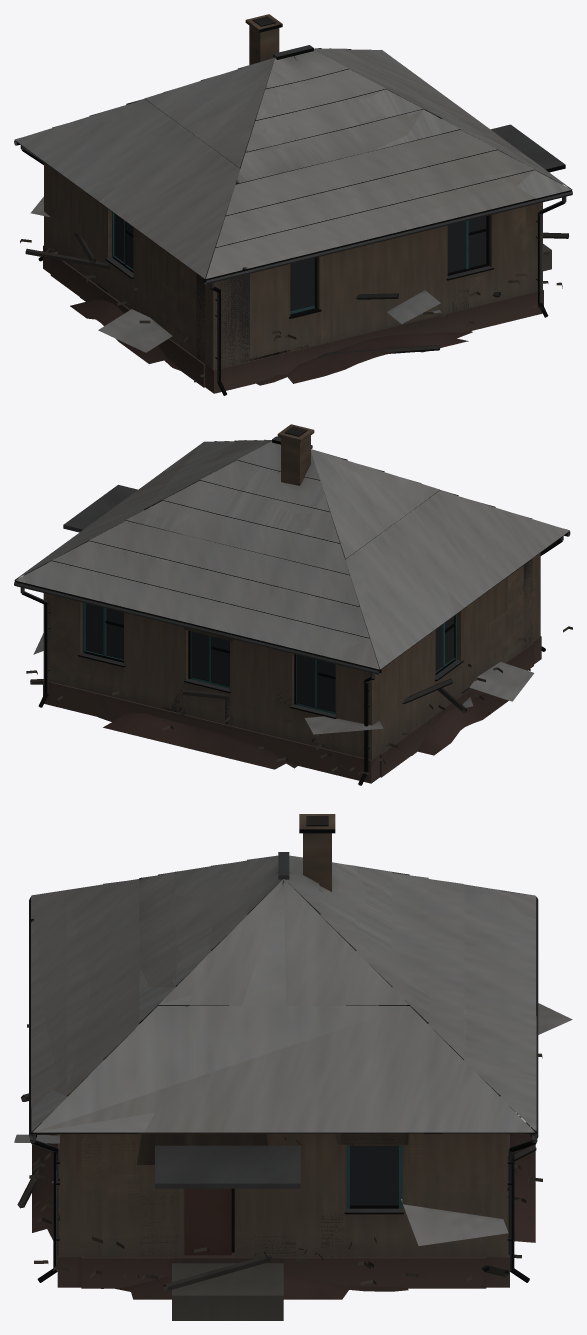
File: ph_brick.glb
The picture shows the model from 3 angles, top to bottom: view 1: azimuth 30°, elevation 25°; view 2: azimuth 150°, elevation 25°; view 3: azimuth 270°, elevation 25°; orthographic projection. The views are drawn at different scales.
Visible parts, largest first — view 1: brick_s0, brick_sruin, brick_s1f, brick_s1g, brick_s2; view 2: brick_s0, brick_sruin, brick_s1f, brick_s1g, brick_s2; view 3: brick_s0, brick_s1g, brick_sruin, brick_s2, brick_s1f.
Boxes of the visible parts, x1,y1,x2,y2 form: brick_s0: [14, 14, 572, 395]; brick_sruin: [20, 188, 568, 385]; brick_s1f: [24, 48, 564, 334]; brick_s1g: [17, 48, 571, 278]; brick_s2: [15, 49, 570, 277]; brick_s0: [14, 424, 570, 785]; brick_sruin: [26, 559, 572, 775]; brick_s1f: [15, 440, 569, 706]; brick_s1g: [55, 440, 566, 783]; brick_s2: [18, 441, 489, 669]; brick_s0: [29, 814, 538, 1320]; brick_s1g: [31, 873, 535, 1133]; brick_sruin: [14, 1003, 572, 1299]; brick_s2: [34, 862, 496, 1259]; brick_s1f: [31, 867, 536, 1280].
Bounding box in the file's own units: 12.38 × 7 × 9.99.
1 material, 1 textured.
